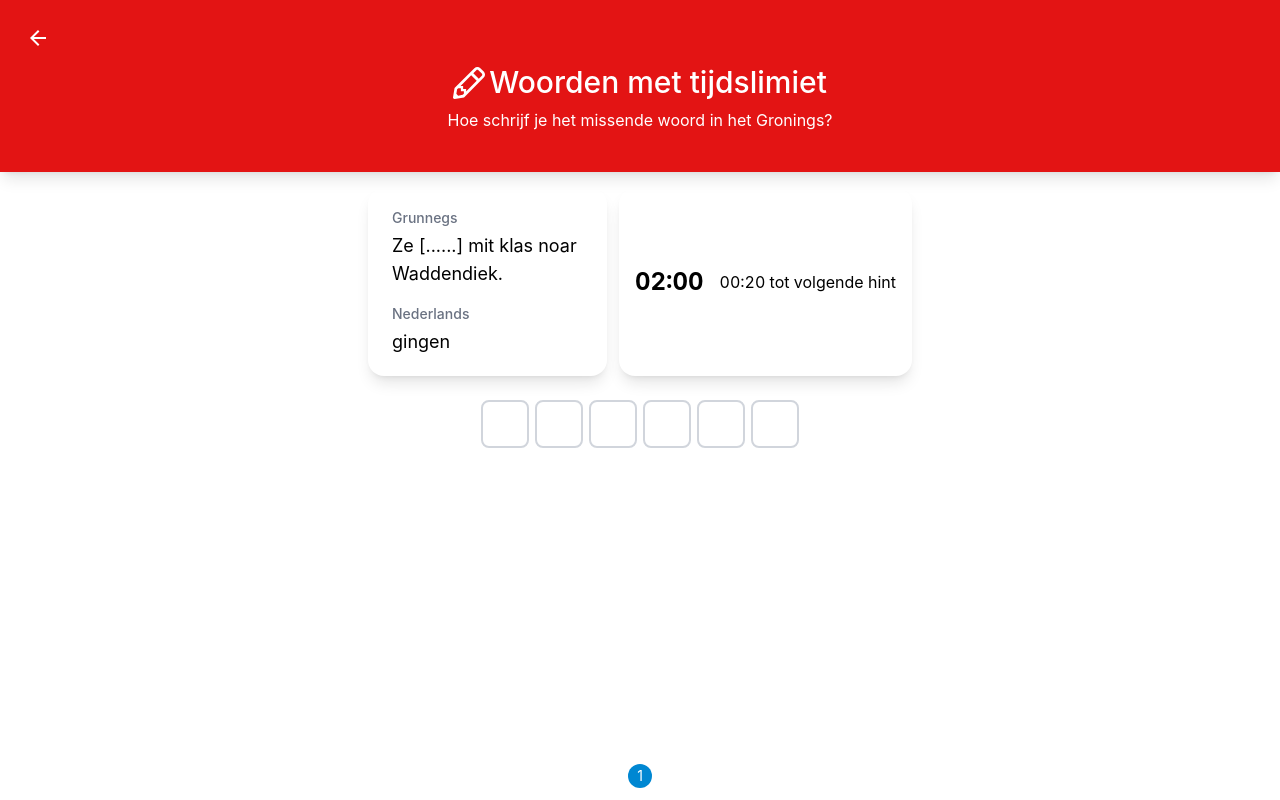
Test: the clock › stops immediately on a correct answer, before time runs out
Type "g" into the field named "Letter 1 van 6". click: (505, 424)
box: [483, 402, 527, 446]
Type "i" into the field named "Letter 2 van 6". click: (559, 424)
box: [537, 402, 581, 446]
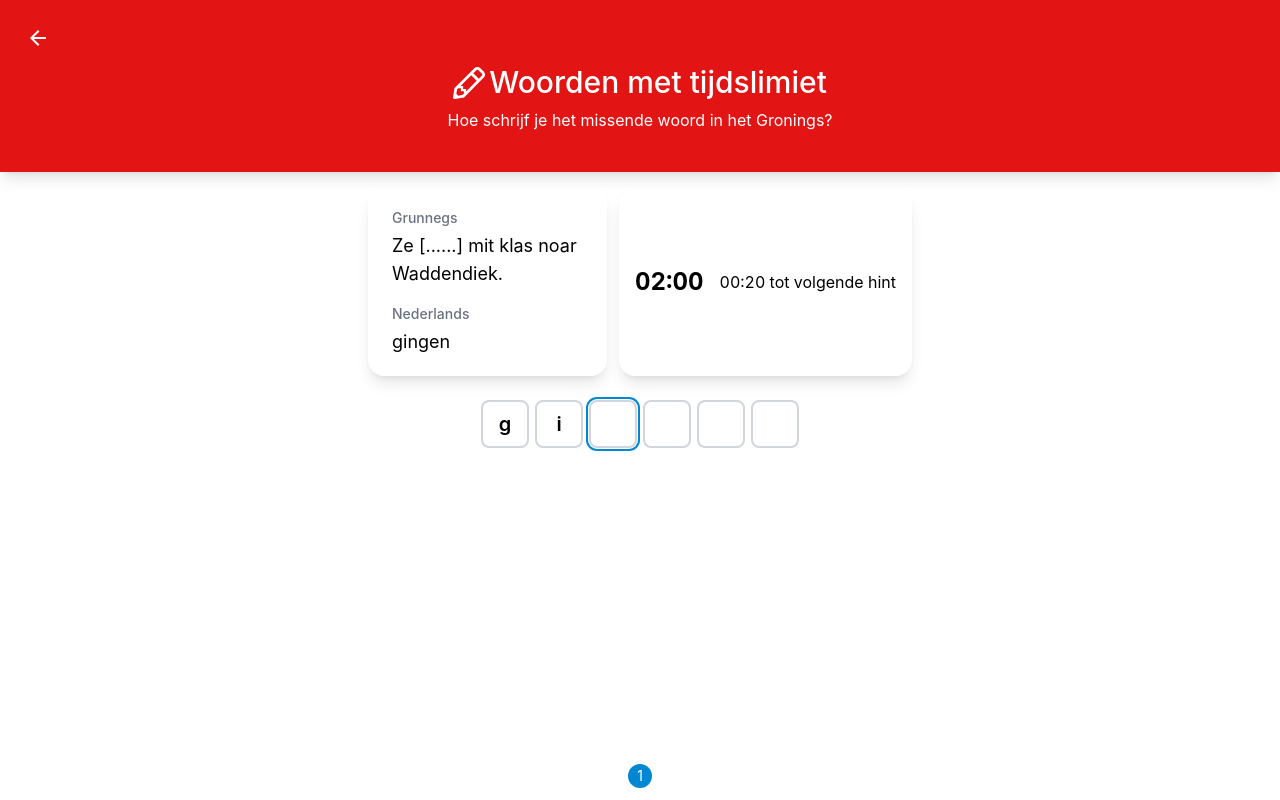
Type "n" into the field named "Letter 3 van 6". click: (613, 424)
box: [591, 402, 635, 446]
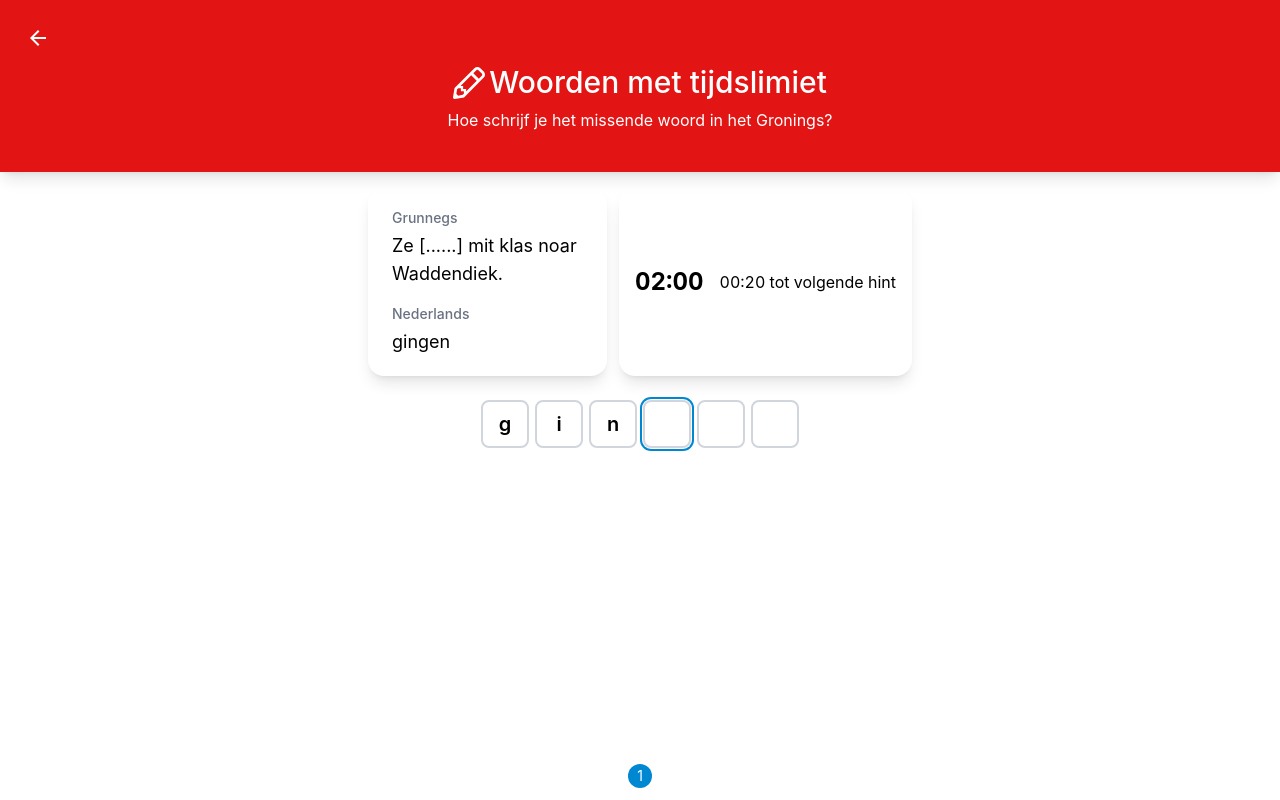
Type "g" into the field named "Letter 4 van 6". click: (667, 424)
box: [645, 402, 689, 446]
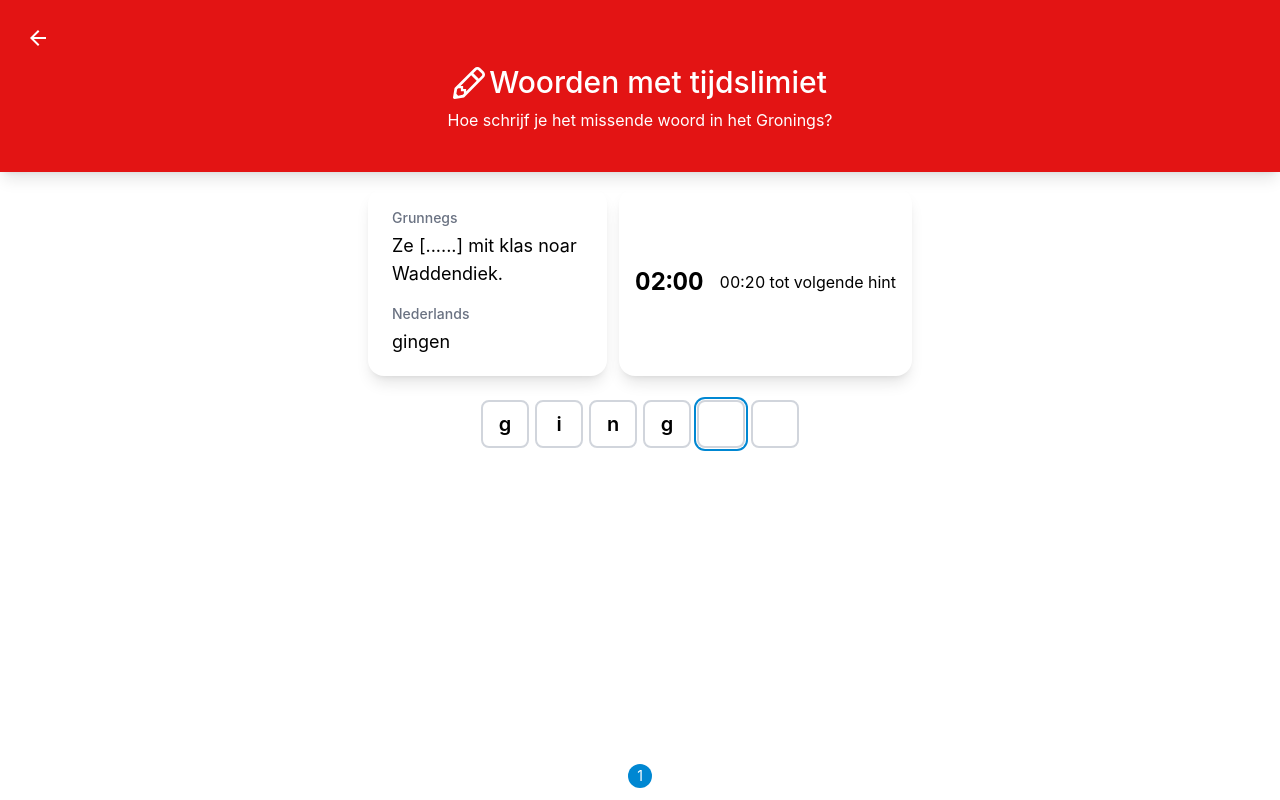
Type "e" into the field named "Letter 5 van 6". click: (721, 424)
box: [699, 402, 743, 446]
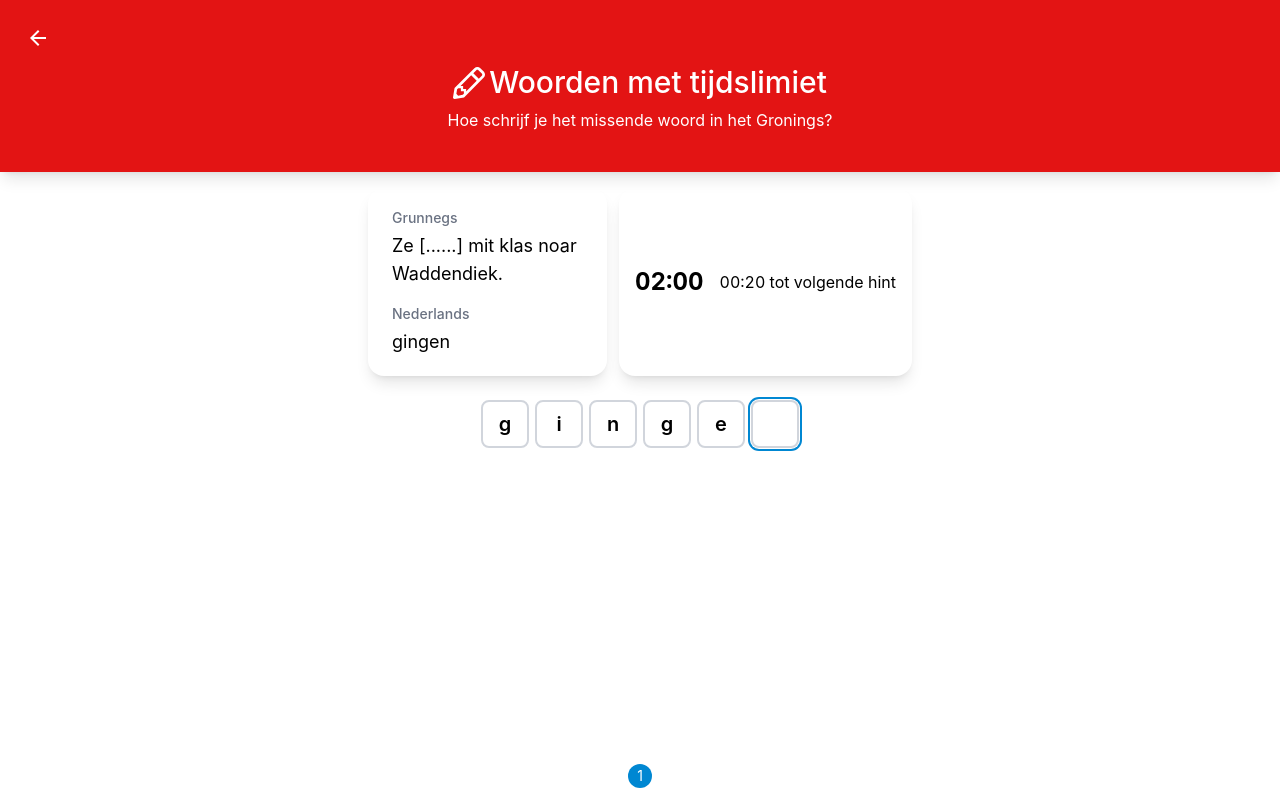
Type "n" into the field named "Letter 6 van 6". click: (775, 424)
box: [753, 402, 797, 446]
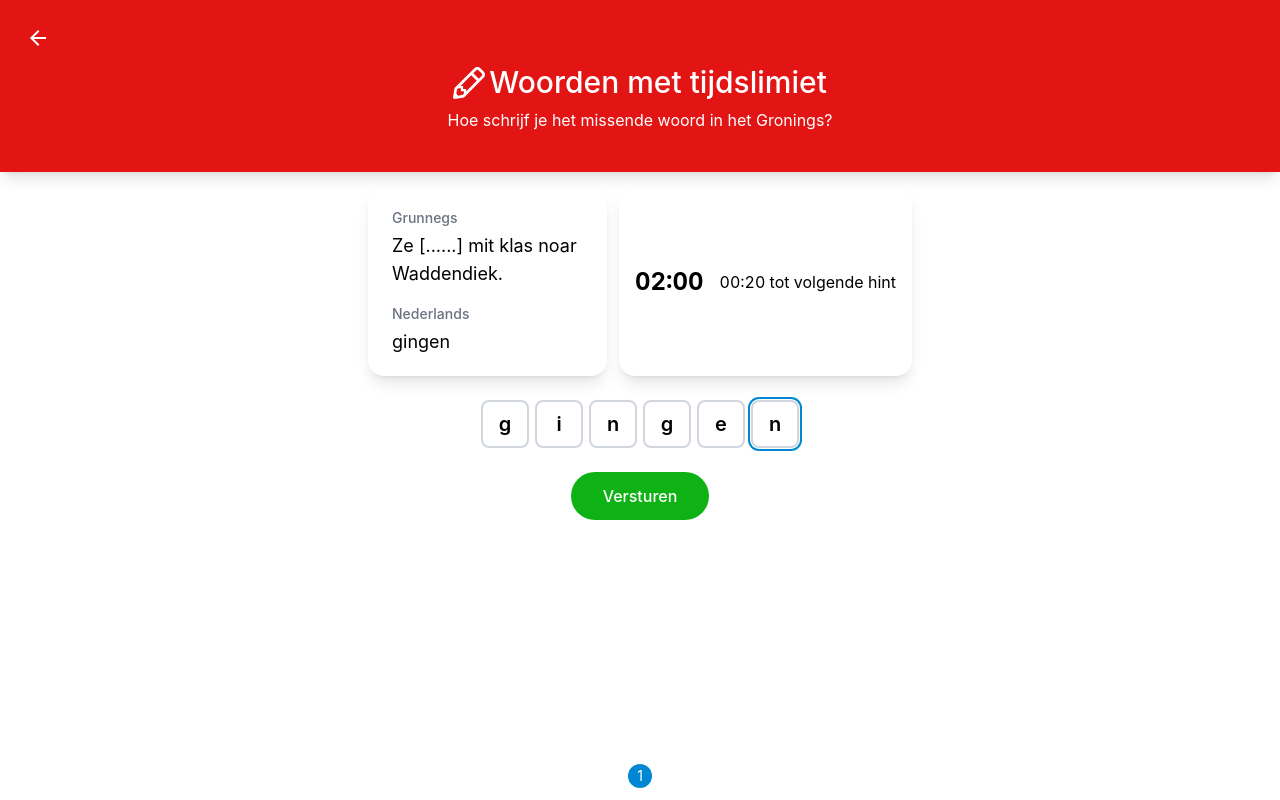
Click the button "Versturen". click: (640, 496)
box: [571, 472, 709, 520]
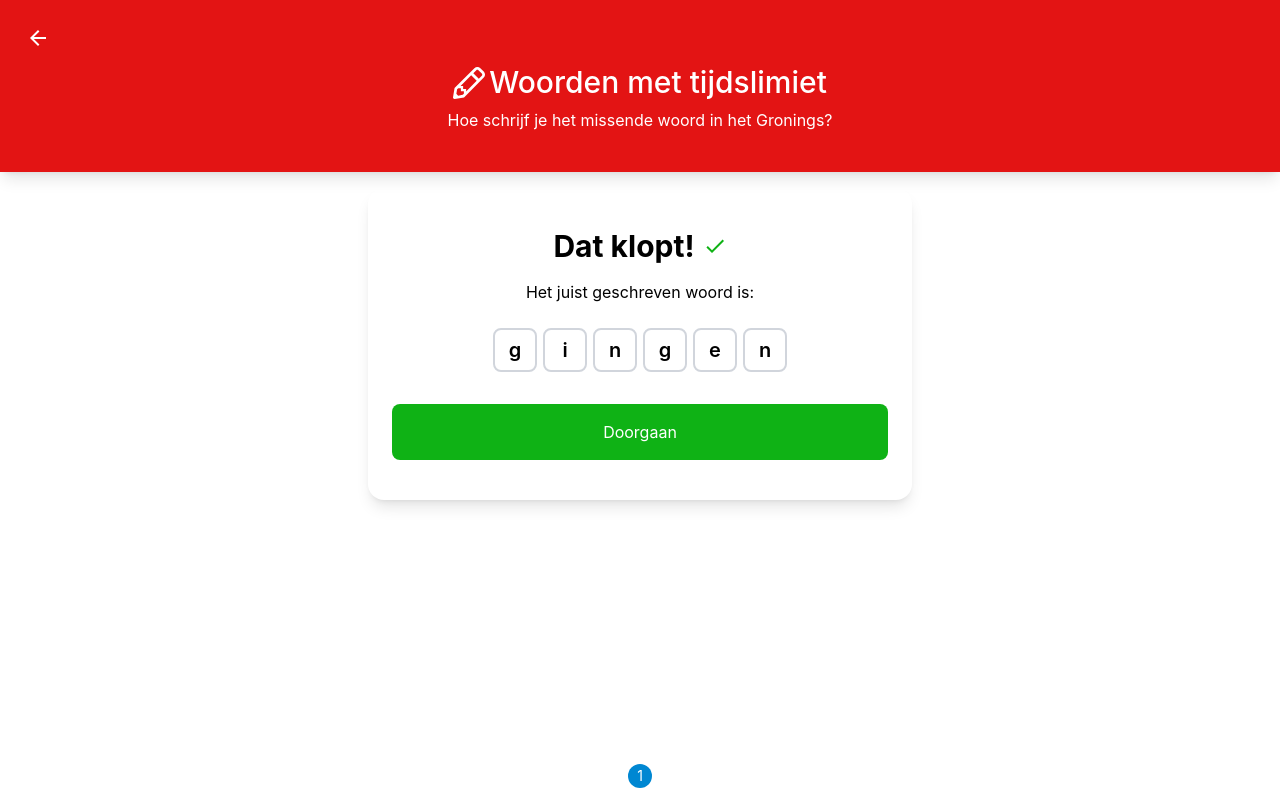
Check: the text "Dat klopt!" is shown, box [553, 228, 726, 264]
